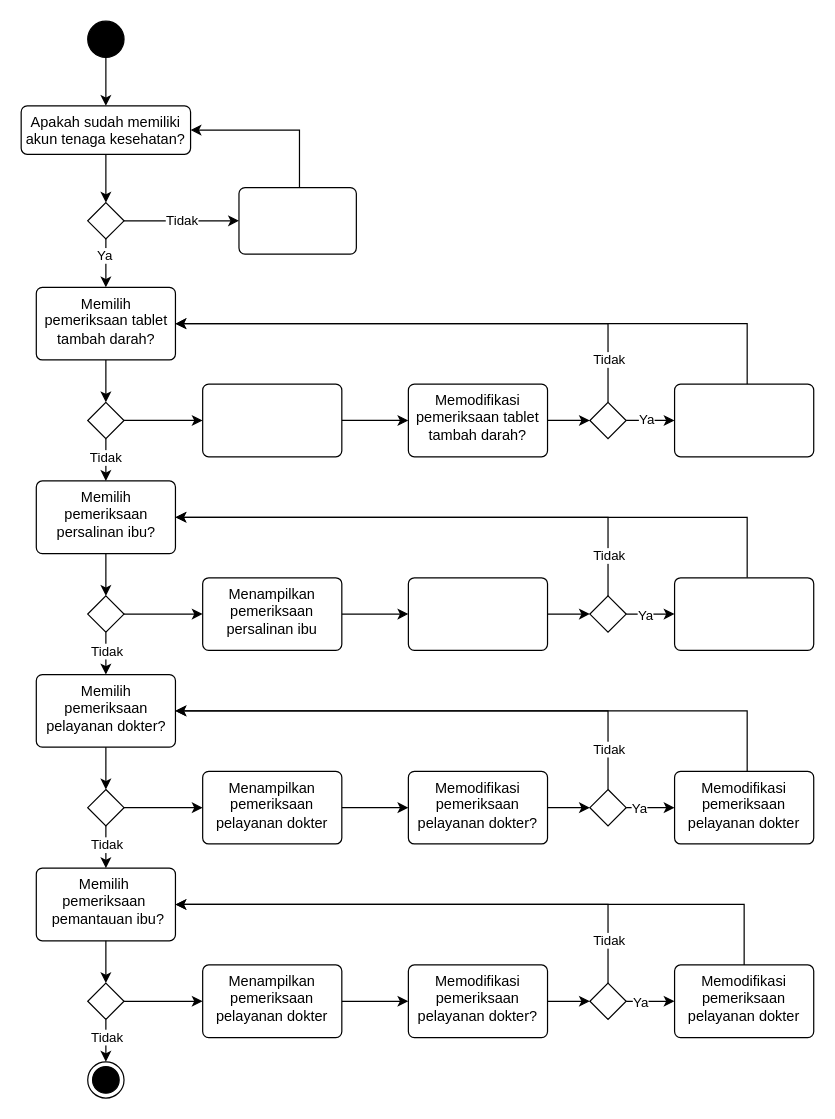
Image size: 835x1119. Some labels were removed from this diagram. Here are the shapes that lost their labels. From the top down, the box of each, then its label:
(238, 186, 356, 254): Membuat akun untuk tenaga kesehatan
(201, 383, 342, 457): Menampilkan pemeriksaan tablet tambah darah
(673, 383, 814, 457): Memodifikasi pemeriksaan tablet tambah darah
(407, 577, 548, 650): Memodifikasi pemeriksaan persalinan ibu?
(673, 577, 814, 650): Memodifikasi pemeriksaan persalinan ibu
